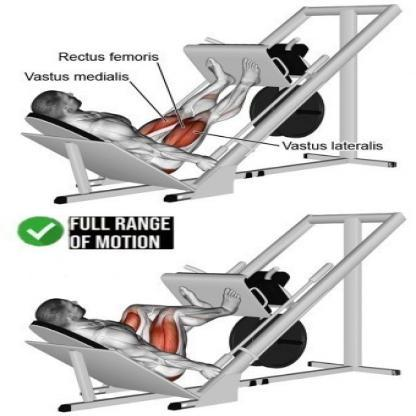leg press: (7, 209, 415, 416), (12, 1, 412, 206)
